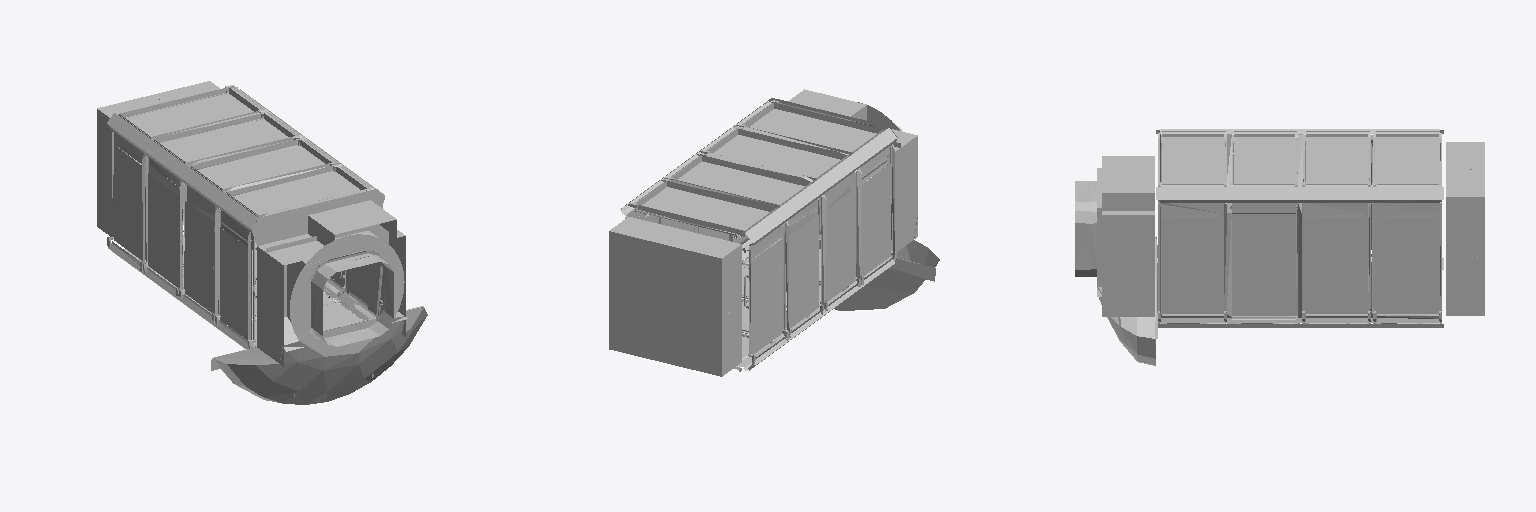
Rendered from eu_lab.obj.
The picture shows the model from 3 angles: view 1: azimuth 30°, elevation 25°; view 2: azimuth 150°, elevation 25°; view 3: azimuth 270°, elevation 25°; orthographic projection.
Parts seen in each view (by area): view 1: Module_Connect_004; view 2: Module_Connect_004; view 3: Module_Connect_004.
Boxes of the visible parts, x1,y1,x2,y2 form: Module_Connect_004: [97, 81, 427, 404]; Module_Connect_004: [609, 89, 939, 376]; Module_Connect_004: [1075, 129, 1484, 365].
Size of the model in its own units: 3.6 by 3.19 by 6.03.